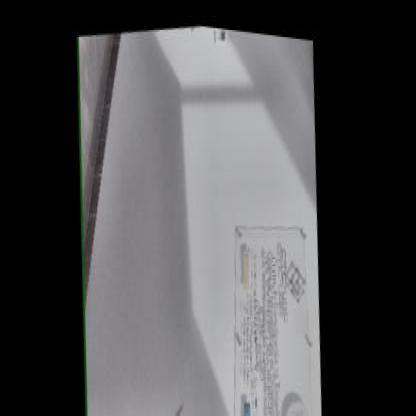knife: (154, 384, 193, 411)
